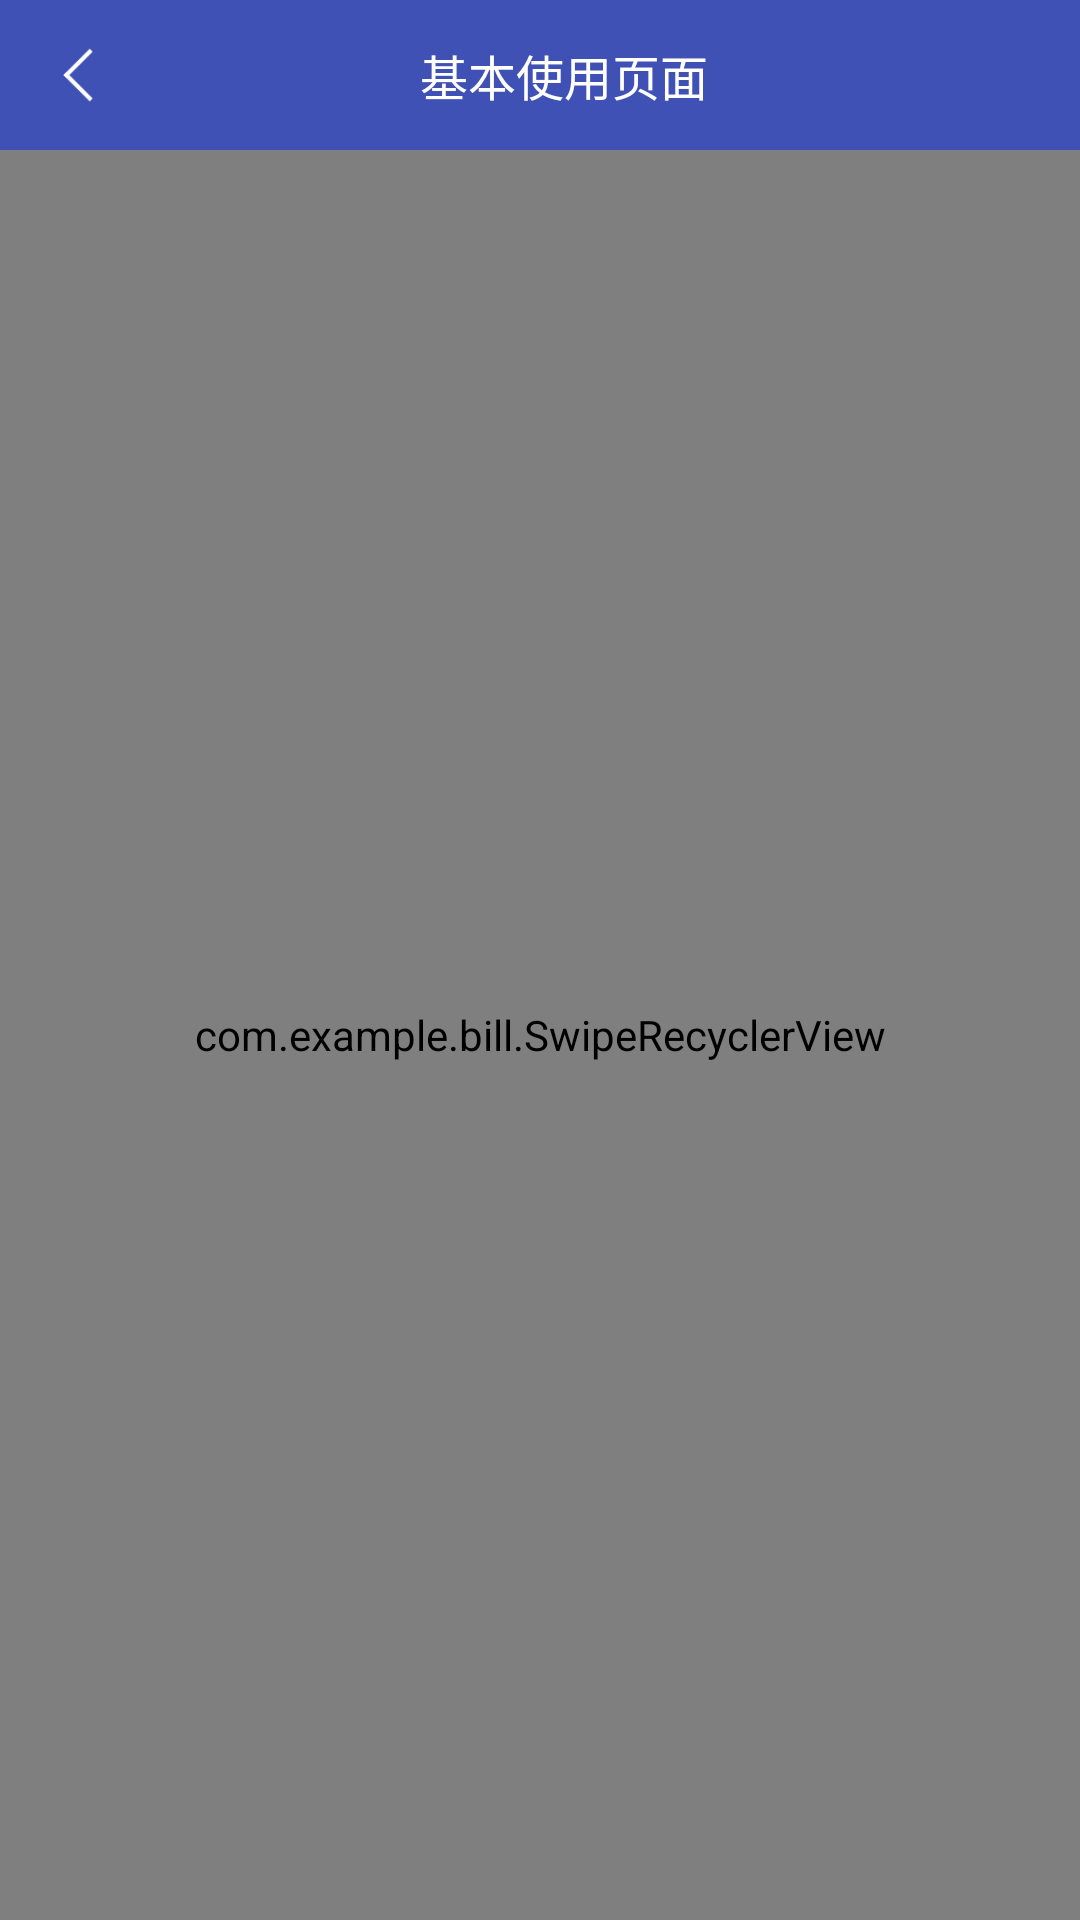

Where to tap for icons on this 1080w x 1920h app screen, as point (x, y):
arrow left: point (78, 75)
